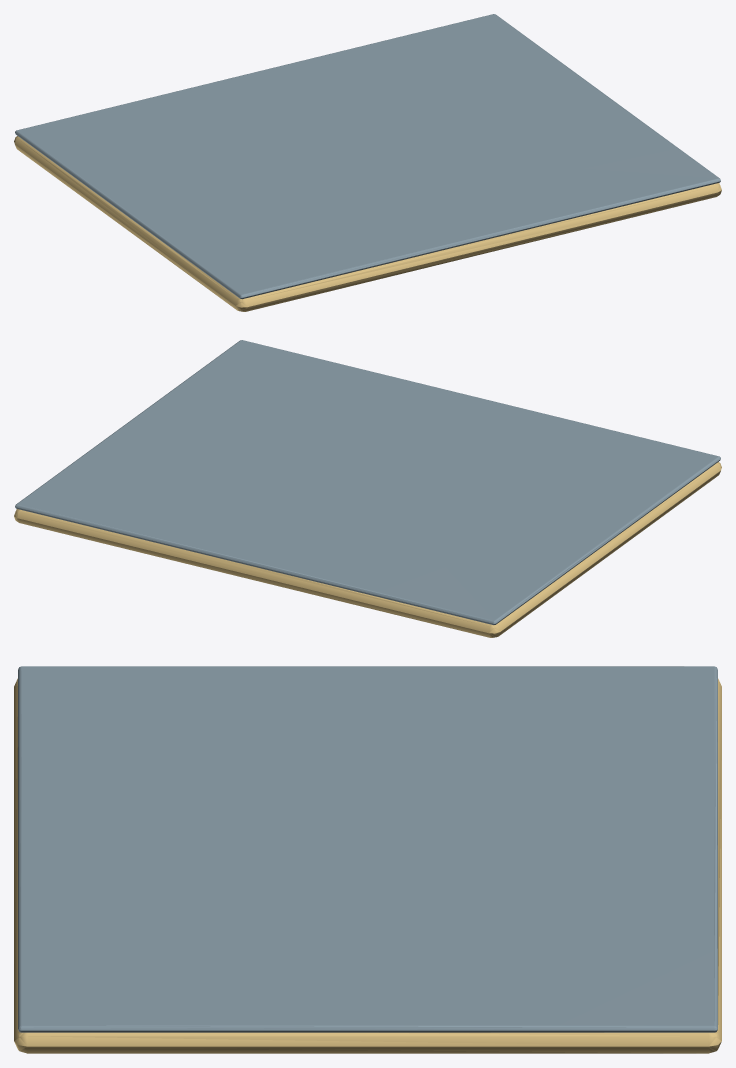
Rendered from DW_Island_5.fbx.
3 views of the same model, one above another, from view 1: azimuth 30°, elevation 25°; view 2: azimuth 150°, elevation 25°; view 3: azimuth 270°, elevation 25° (orthographic). The views are drawn at different scales.
Visible parts, largest first — view 1: Island_5; view 2: Island_5; view 3: Island_5.
Boxes of the visible parts, x1,y1,x2,y2 form: Island_5: (14, 14, 721, 311); Island_5: (14, 340, 721, 637); Island_5: (14, 666, 721, 1053).
Size of the model in its own units: 22 by 0.84 by 18.
